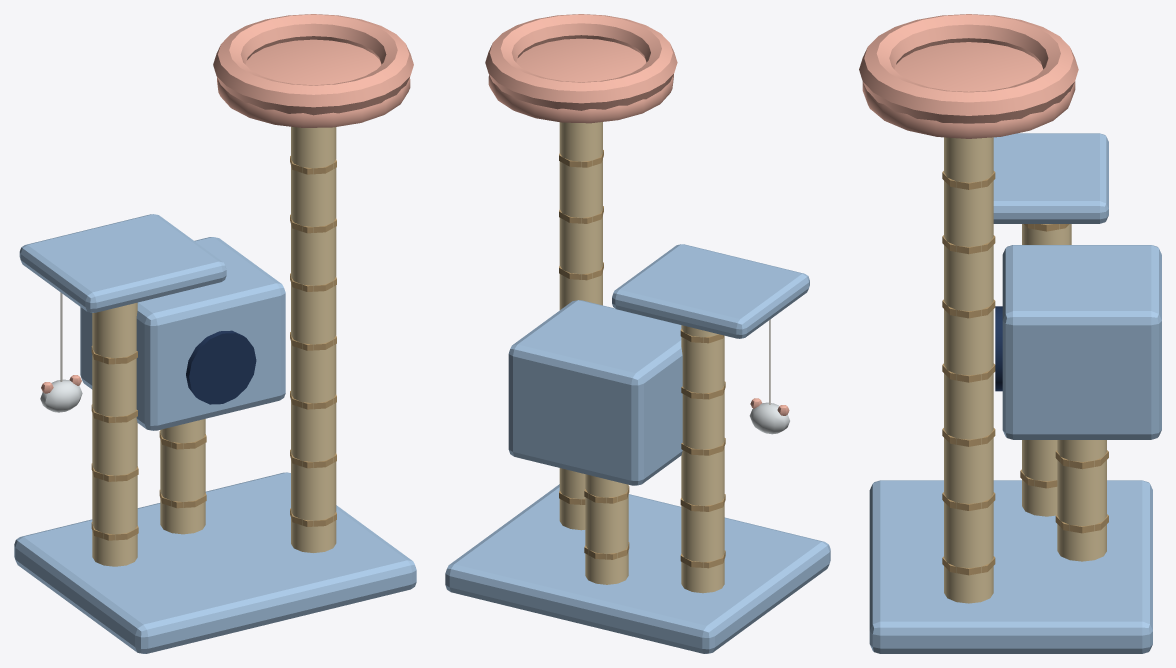
The model's file is t_cattree.gltf.
3 renders of one model, left to right at view 1: azimuth 30°, elevation 25°; view 2: azimuth 150°, elevation 25°; view 3: azimuth 270°, elevation 25°, orthographic. The views are drawn at different scales.
Parts seen in each view (by area): view 1: t_cattree; view 2: t_cattree; view 3: t_cattree.
Boxes of the visible parts, left/top/right/bottom form: t_cattree: left=14, top=14, right=416, bottom=653; t_cattree: left=445, top=14, right=830, bottom=653; t_cattree: left=859, top=14, right=1161, bottom=653.
Bounding box in the file's own units: 1.18 × 1.78 × 0.855.
Materials: 1 (1 with a texture image).
